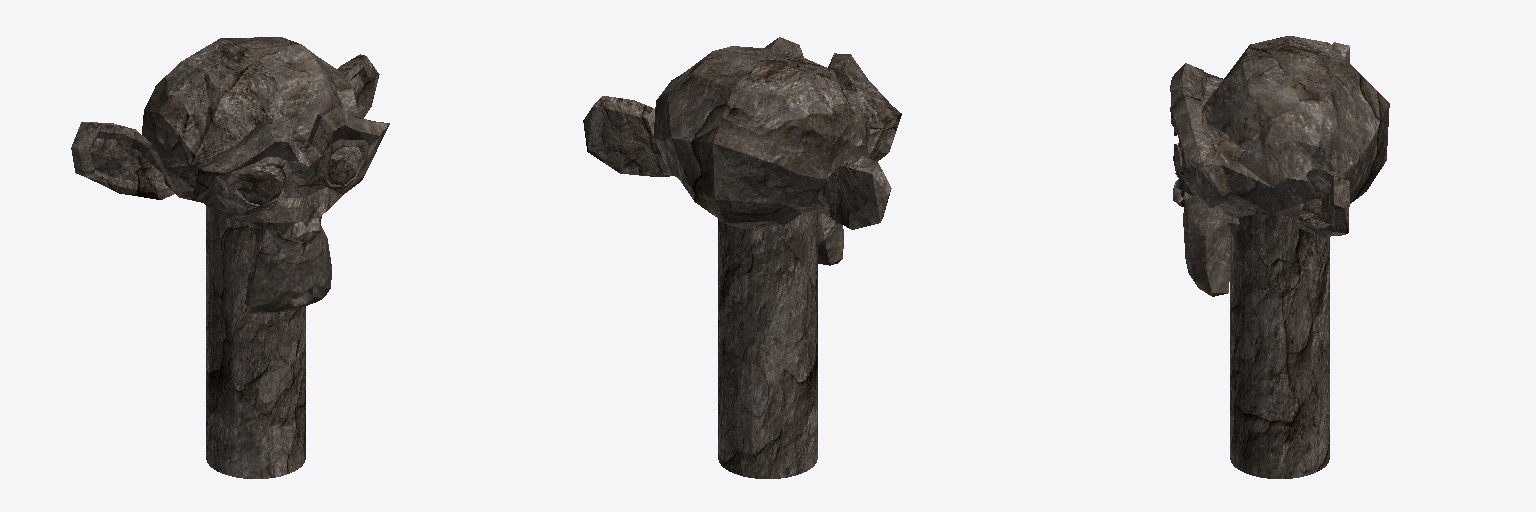
3 renders of one model, left to right at view 1: azimuth 30°, elevation 25°; view 2: azimuth 150°, elevation 25°; view 3: azimuth 270°, elevation 25°, orthographic.
Visible parts, largest first — view 1: Suzanne; view 2: Suzanne; view 3: Suzanne.
Boxes of the visible parts, x1=… form: Suzanne: x1=71, y1=37, x2=389, y2=478; Suzanne: x1=583, y1=37, x2=901, y2=478; Suzanne: x1=1170, y1=36, x2=1389, y2=478.
Bounding box in the file's own units: 8.2 × 10.39 × 5.11.
Materials: 1 (1 with a texture image).